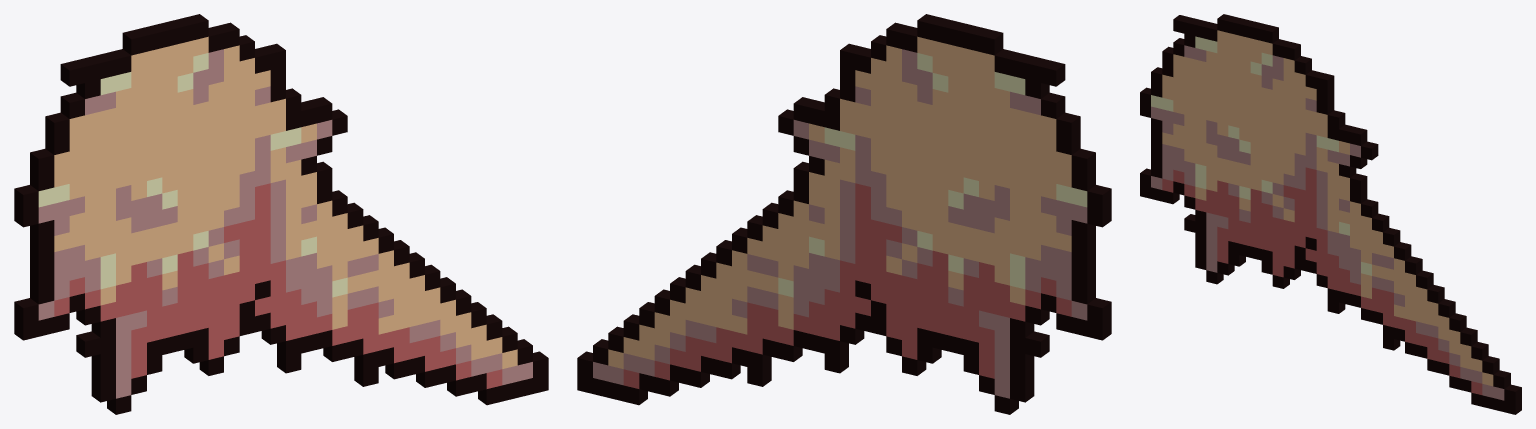
File: W_Mace16.fbx
3 renders of one model, left to right at view 1: azimuth 30°, elevation 25°; view 2: azimuth 150°, elevation 25°; view 3: azimuth 330°, elevation 25°, orthographic. The views are drawn at different scales.
Parts seen in each view (by area): view 1: Default; view 2: Default; view 3: Default.
Boxes of the visible parts, box(x1,y1,x2,y2) form: Default: box(14, 14, 548, 414); Default: box(577, 14, 1111, 414); Default: box(1140, 14, 1521, 414).
Size of the model in its own units: 34 by 28 by 1.
1 material, 1 textured.
